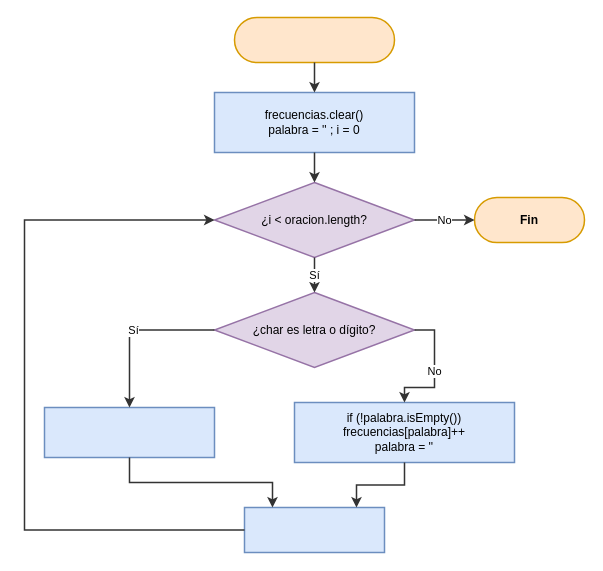
Image size: 603x571. Some labels were removed from this diagram. Here are the shapes that lost their labels. From the top down, the centre of each, then its label:
At (x=314, y=39): "Inicio contarPalabras".
At (x=129, y=432): "palabra += c".
At (x=314, y=529): "i++".
